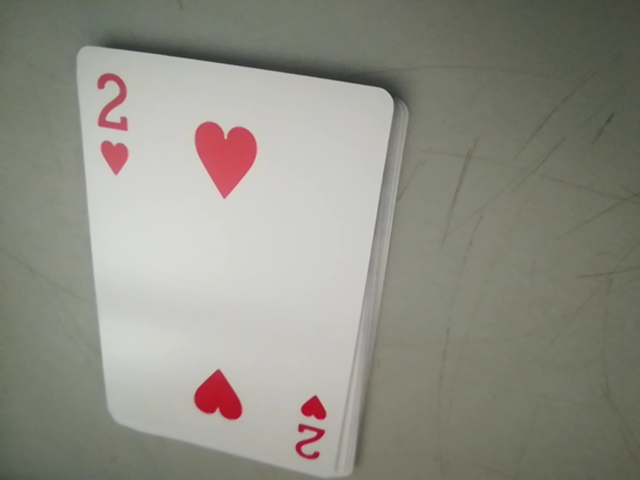hx 2: (79, 54, 142, 184), (286, 392, 339, 469)
